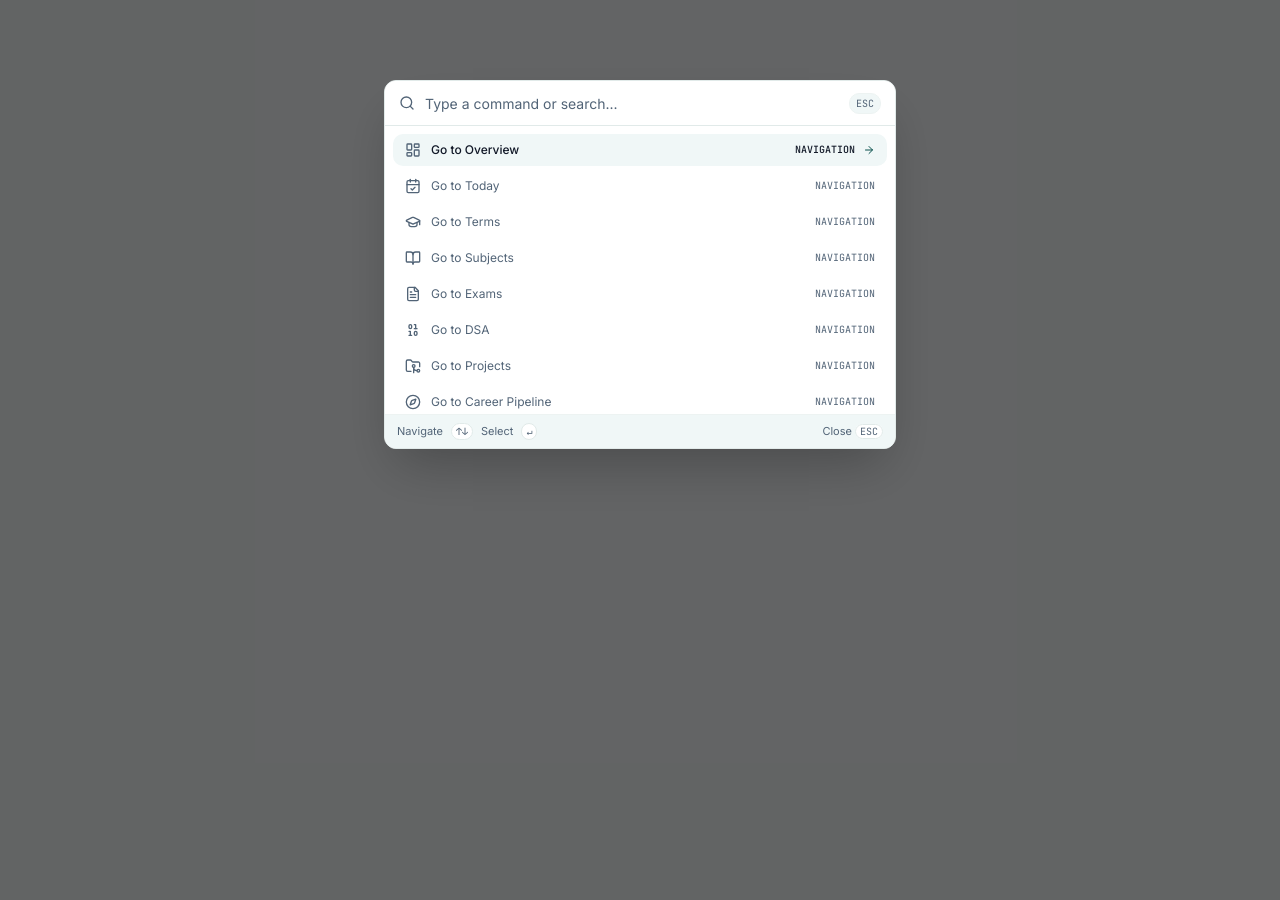
it: Command Palette Foundation › filters commands according to query
The width and height of the screenshot is (1280, 900).
Type "calendar" into the dropdown with placeholder "Type a command or search...".
click(637, 103); type("calendar")  # box [425,81,849,125]
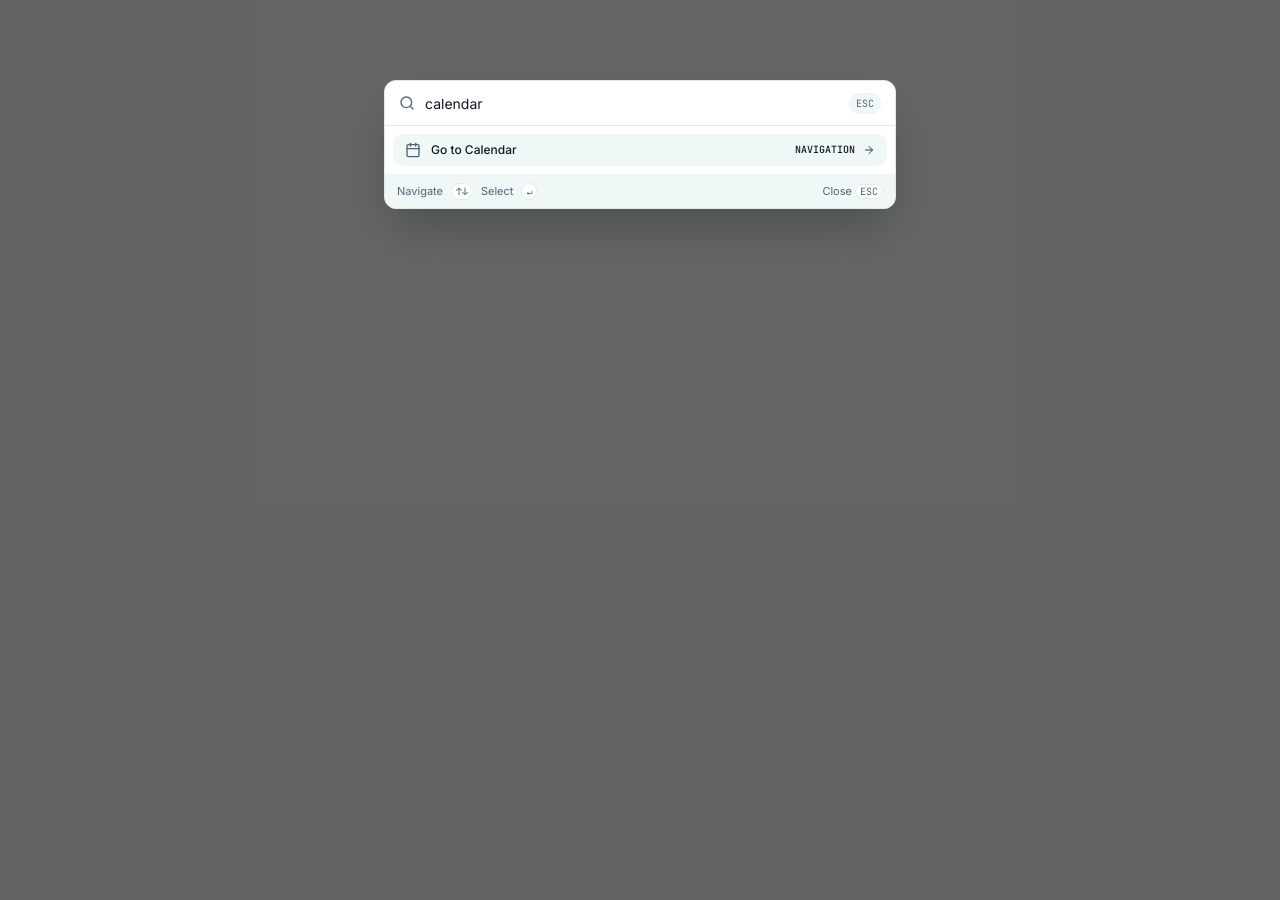
Result: the text "Go to Calendar" is shown at [431,142,517,158]
Result: the option "Go to DSA" is gone
